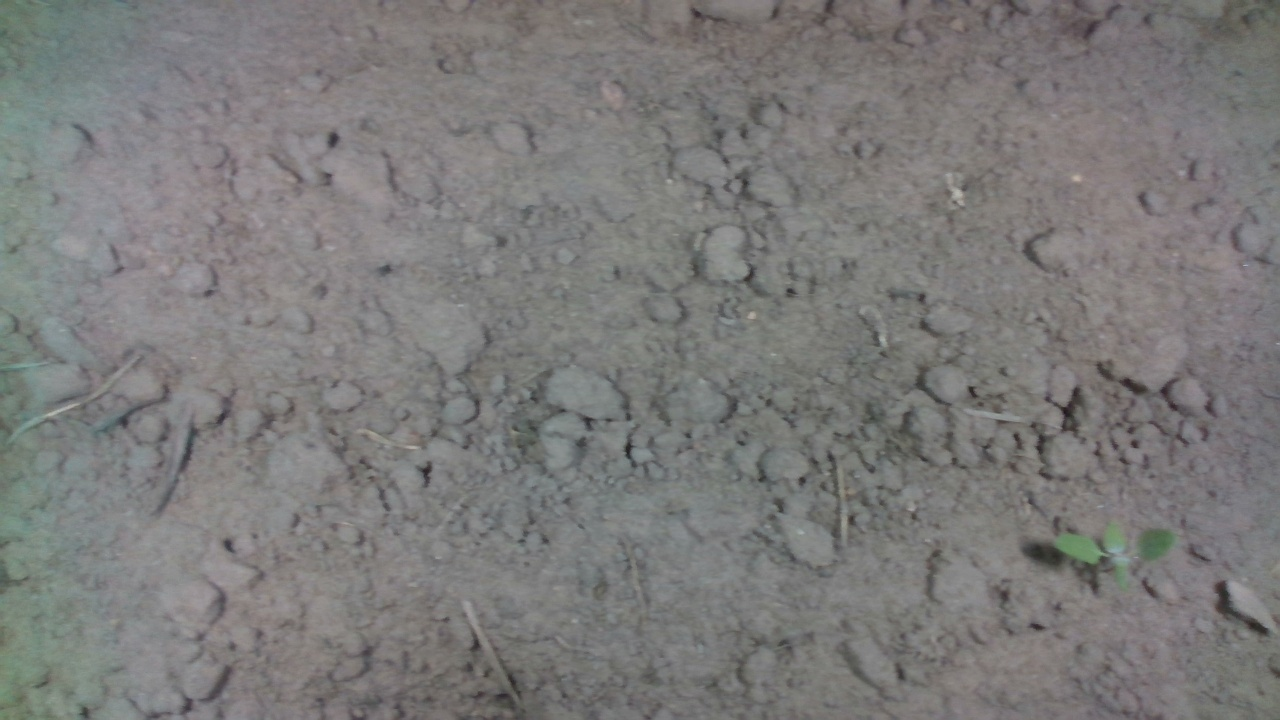weed: (1049, 514, 1181, 590)
